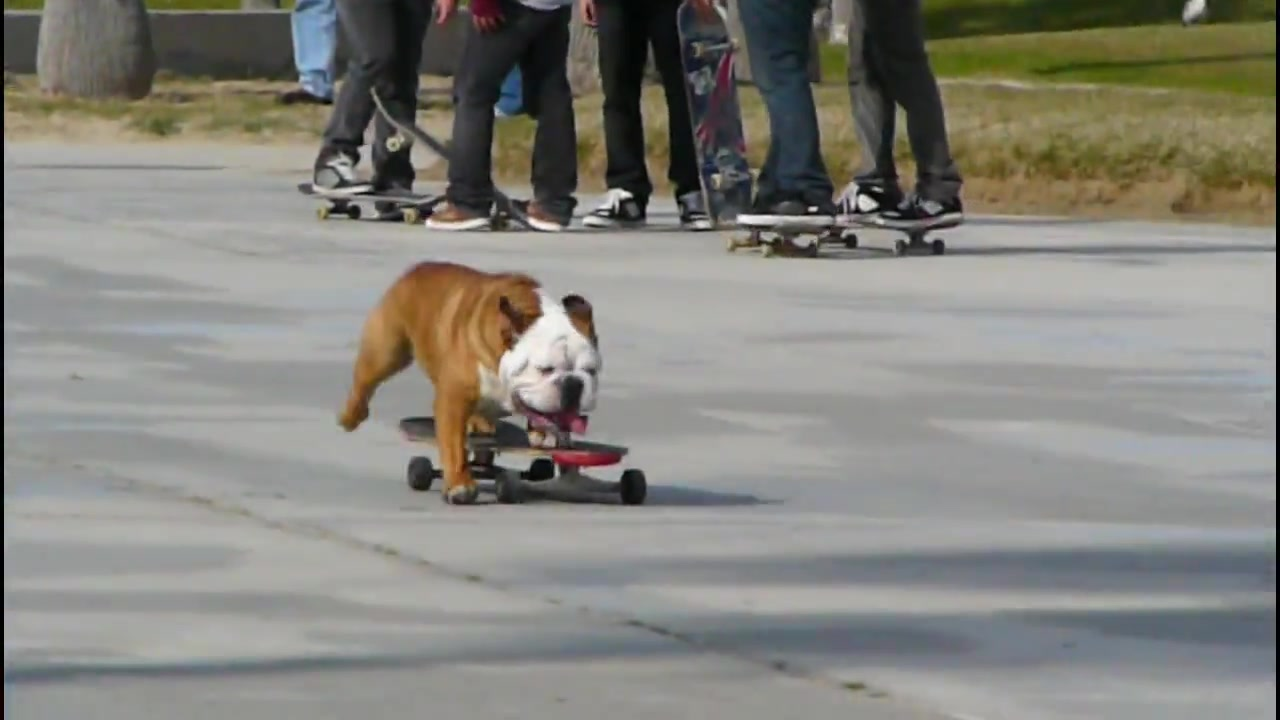dog: (339, 259, 606, 512)
